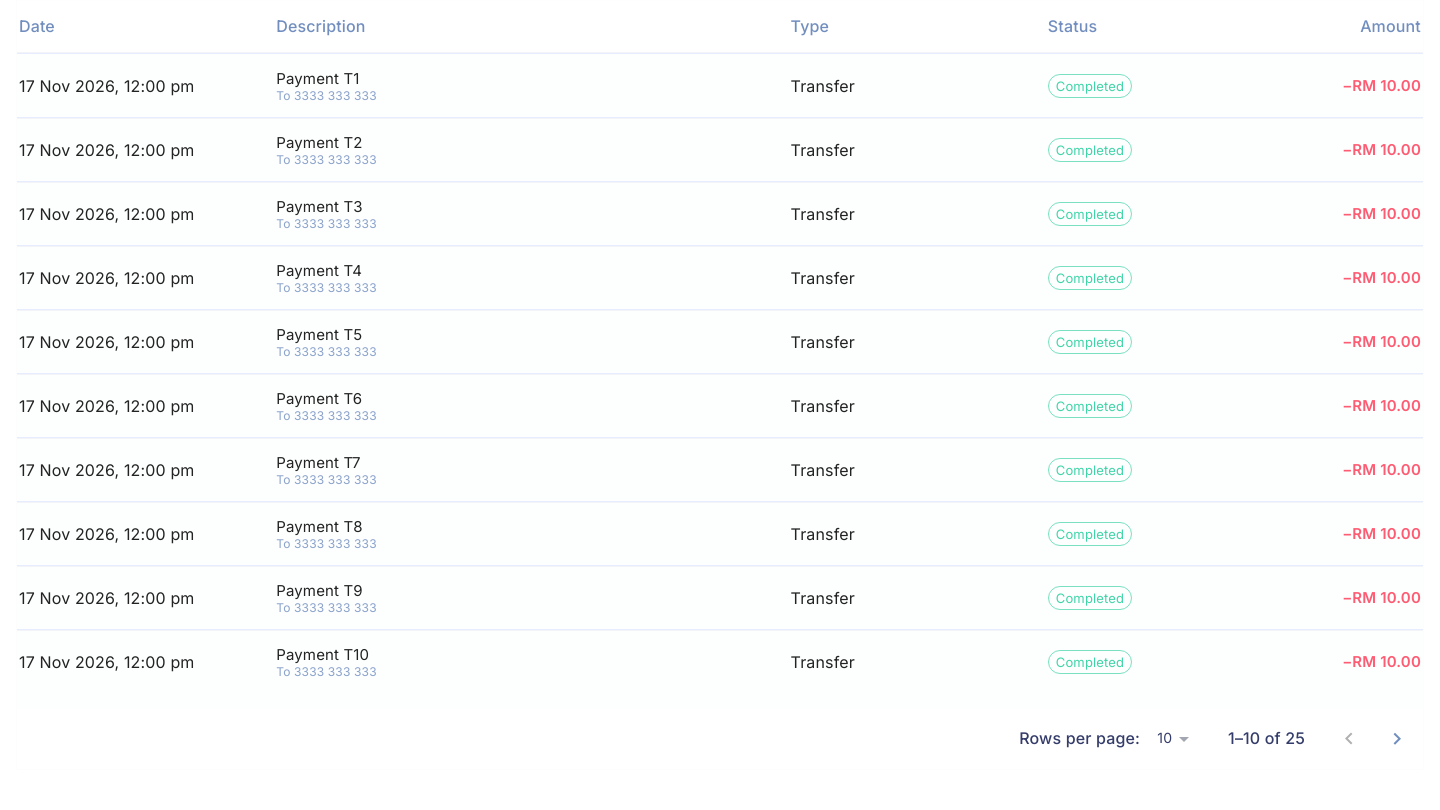
Scenario: transactions page › shows the first page of the first account, and asks the server for the next page
This screenshot has width=1440, height=810.
(page scrolled)
Expected: the text "Payment T1" is shown, [276,69,360,88]
Expected: the text "Payment T10" is shown, [276,646,377,664]
Click the button named "go to next page" at (1397, 739), box [1373,715,1421,763]
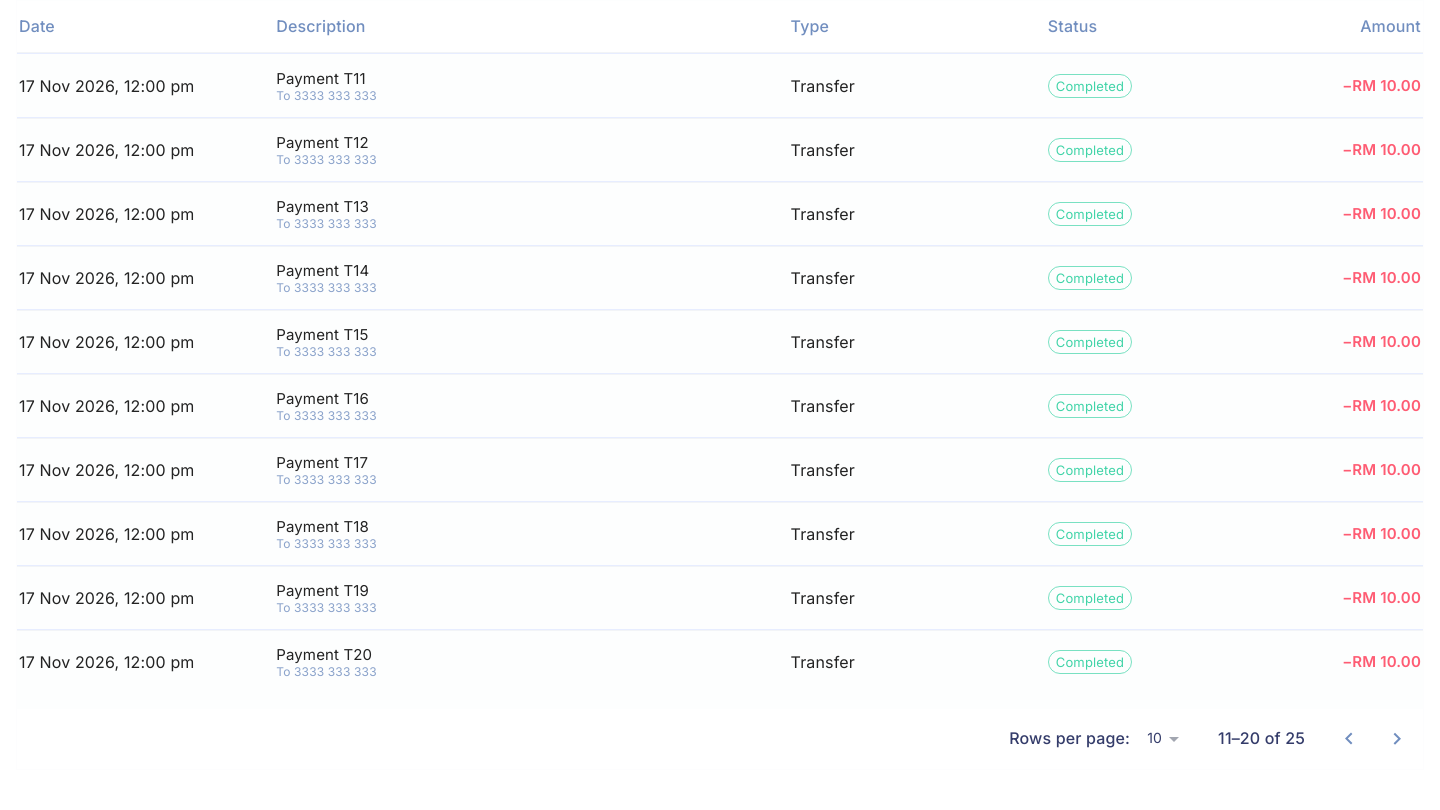
Expected: the text "Payment T11" is shown, [276,70,377,88]
